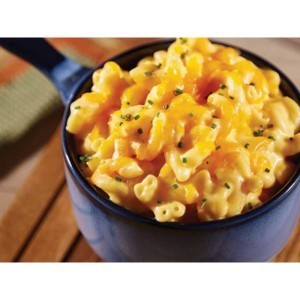cheese_brain food: (101, 84, 277, 192)
